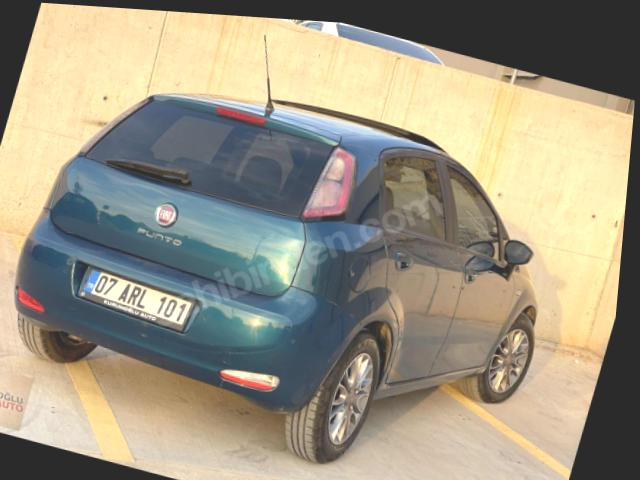plaka: (78, 269, 194, 330)
